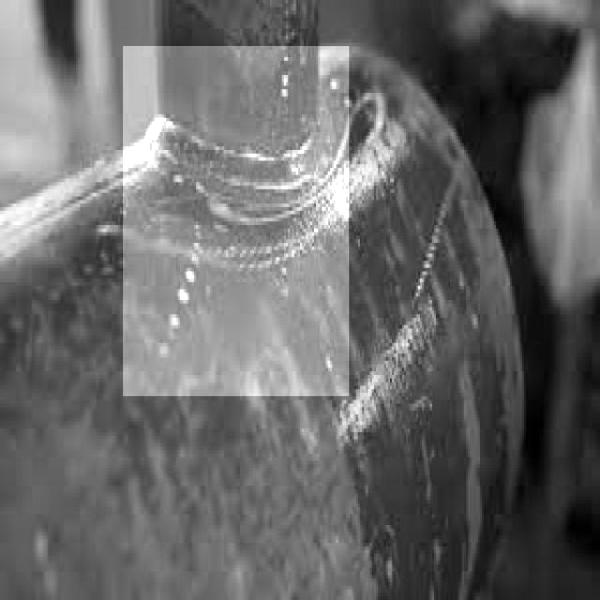water: (123, 46, 349, 396)
